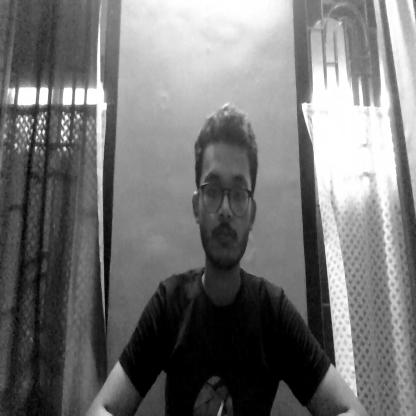Normal: (188, 100, 257, 276)
